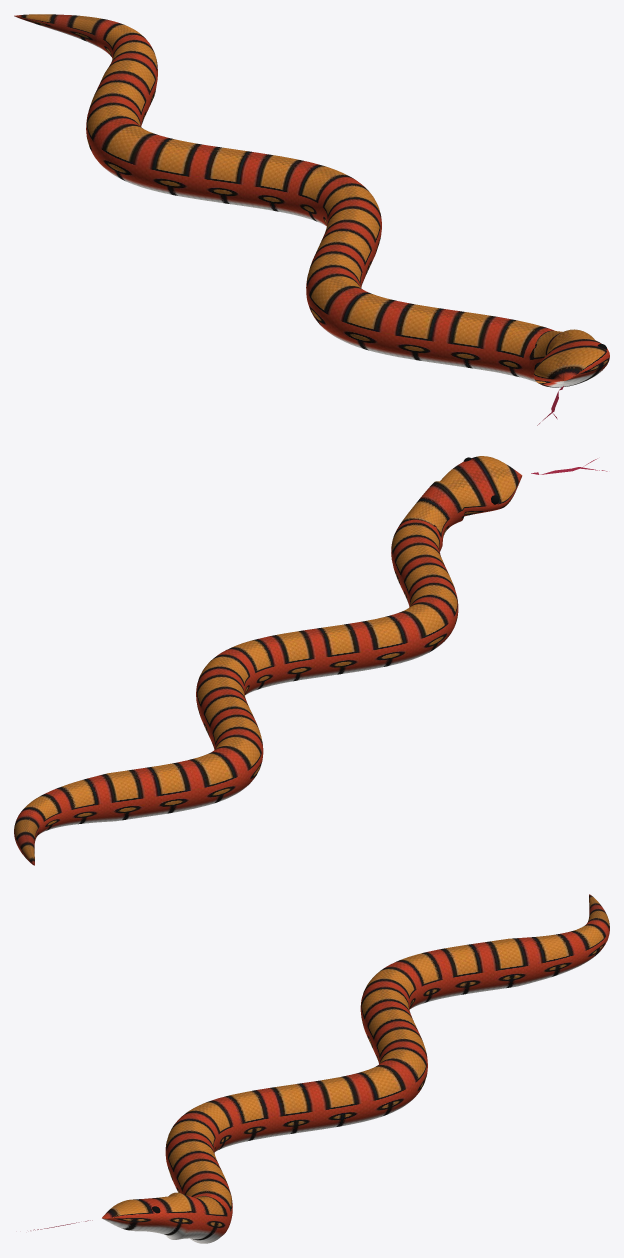
File: snake.glb
3 renders of one model, top to bottom at view 1: azimuth 30°, elevation 25°; view 2: azimuth 150°, elevation 25°; view 3: azimuth 330°, elevation 25°, orthographic. The views are drawn at different scales.
Bounding box in the file's own units: 1.3 × 0.639 × 8.59.
Materials: 3 (1 with a texture image).
